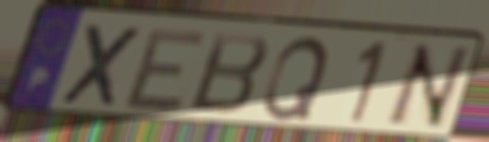1: (347, 40, 389, 127)
B: (185, 30, 274, 118)
E: (120, 27, 212, 113)
N: (379, 43, 474, 132)
Q: (260, 34, 333, 123)
X: (56, 20, 145, 111)
